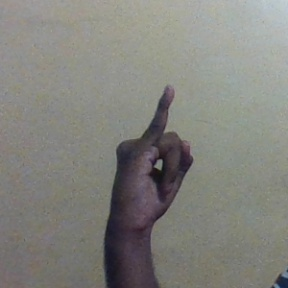I: (112, 84, 196, 219)
